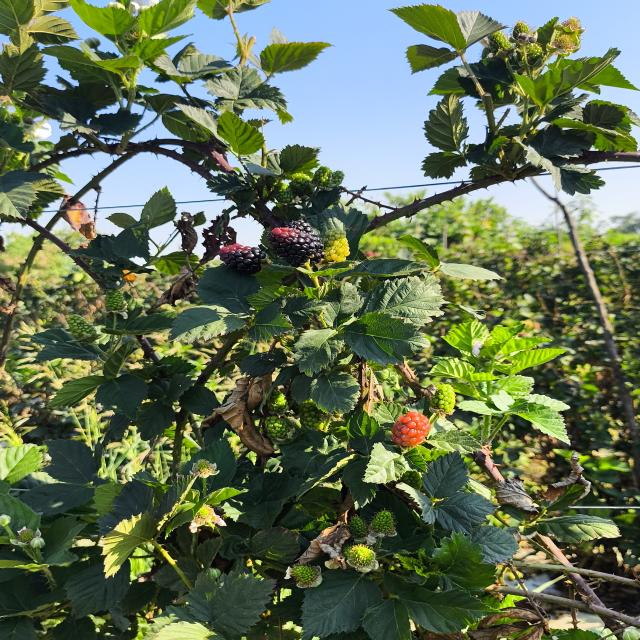marron: (268, 224, 324, 266), (220, 243, 265, 274)
naranja: (391, 411, 431, 447)
verde: (343, 544, 379, 573), (299, 400, 330, 430), (67, 315, 99, 342), (286, 564, 322, 588), (430, 384, 455, 414), (289, 172, 314, 197), (371, 511, 395, 535), (265, 416, 288, 439), (105, 290, 126, 311), (267, 390, 287, 412), (349, 516, 368, 538), (274, 183, 294, 203), (313, 166, 332, 186), (331, 170, 344, 186)
